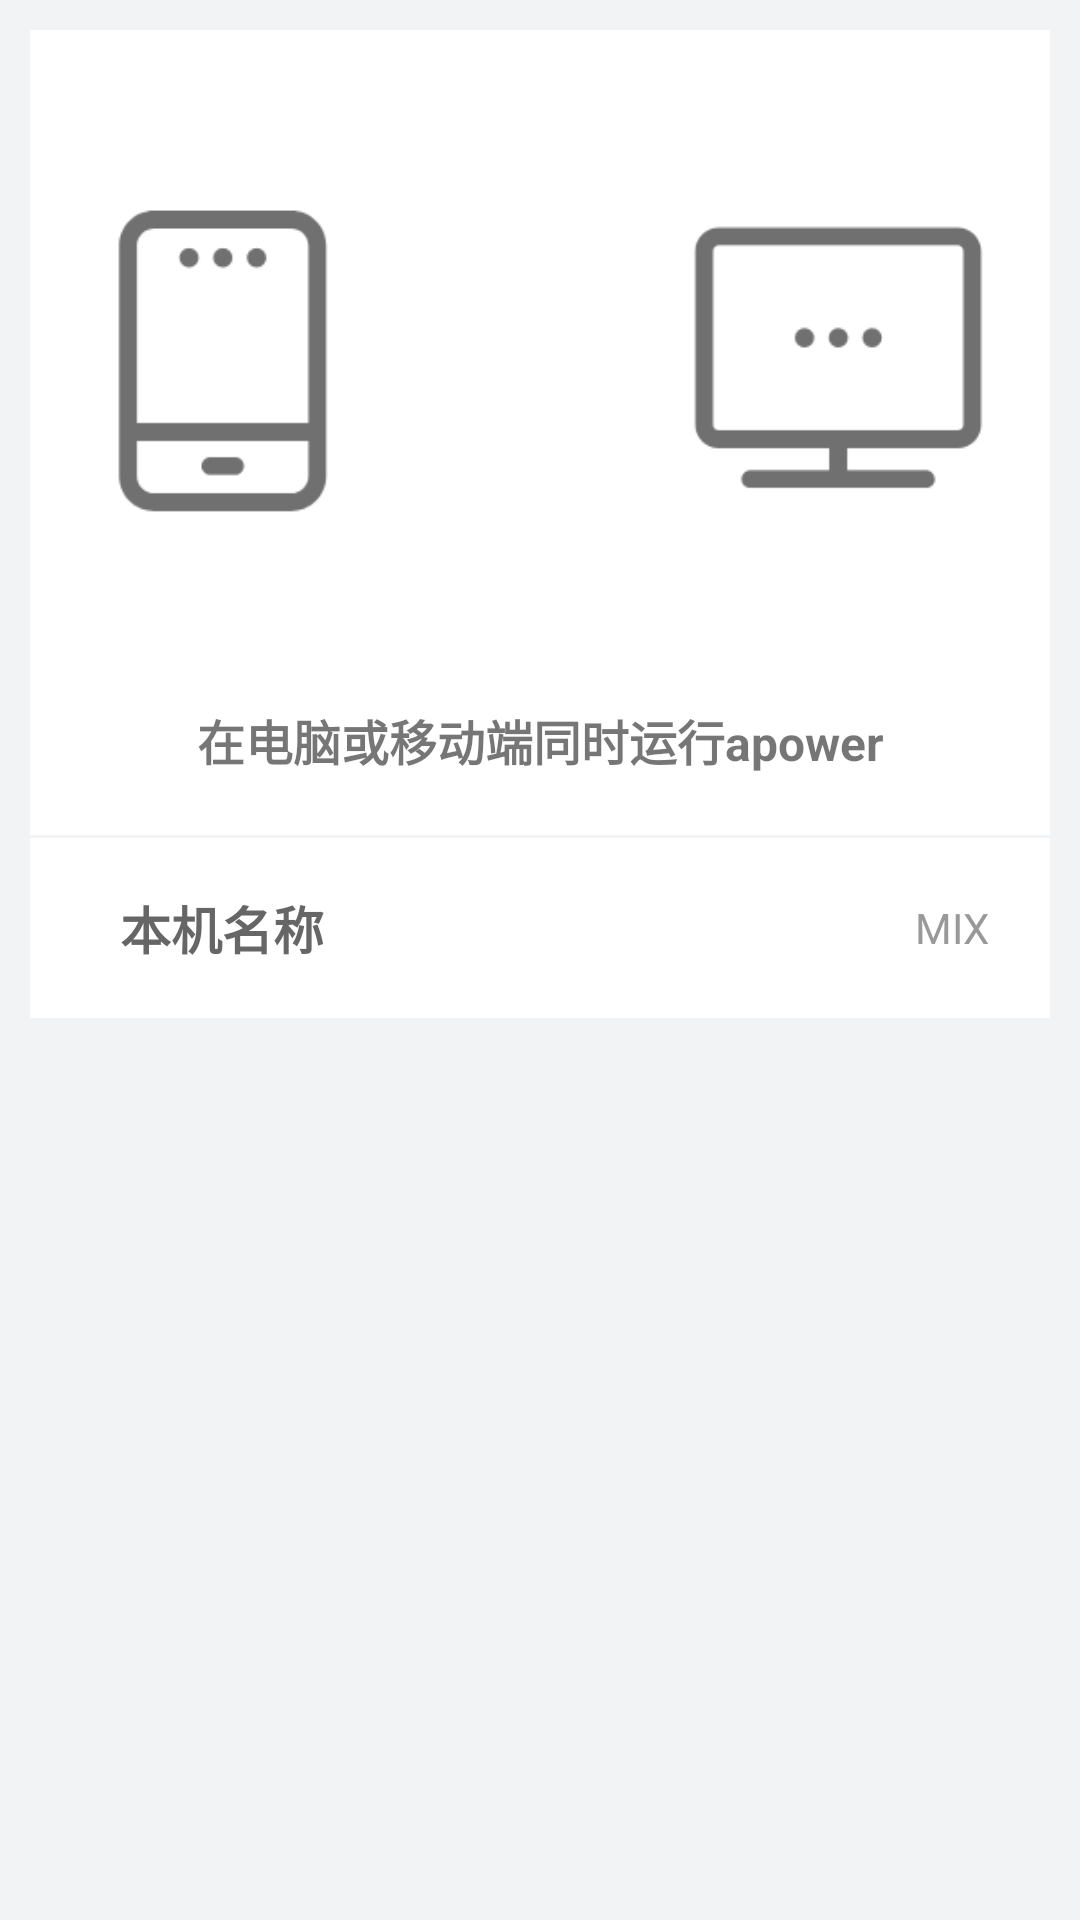

Point at icon controls on the screen. Image size 1080 x 1920, points as point (x, y).
computer: point (838, 357)
mobile: point (222, 361)
